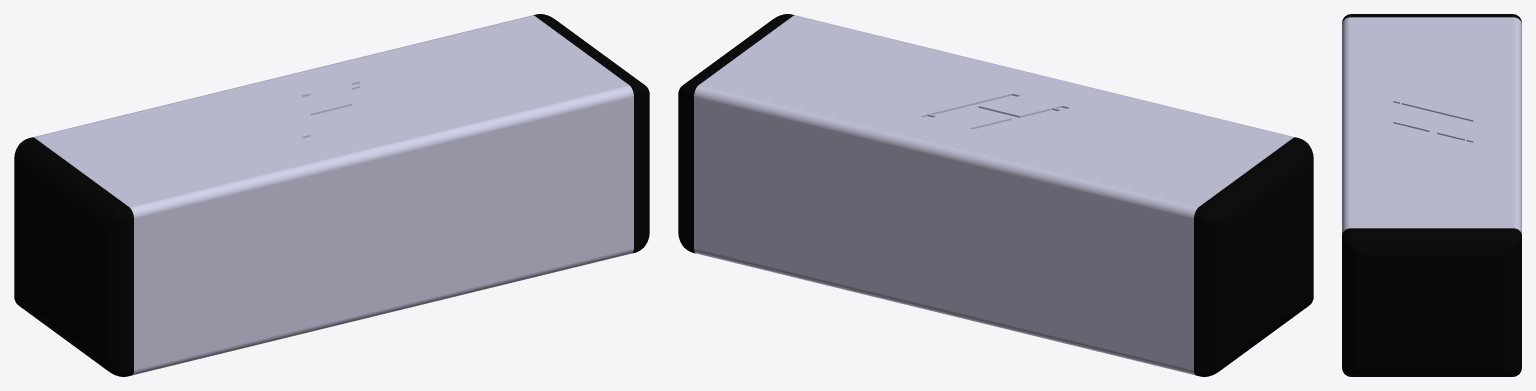
The model's file is BatteryModuleforwebsite2.gltf.
3 renders of one model, left to right at view 1: azimuth 30°, elevation 25°; view 2: azimuth 150°, elevation 25°; view 3: azimuth 270°, elevation 25°, orthographic. The views are drawn at different scales.
Visible parts, largest first — view 1: Aluminum Housing, Endcap Left, Endcap Right; view 2: Aluminum Housing, Endcap Left, Endcap Right; view 3: Aluminum Housing, Endcap Right, Endcap Left.
Boxes of the visible parts, box(x1,y1,x2,y2) form: Aluminum Housing: box(33, 15, 633, 375); Endcap Left: box(14, 137, 133, 376); Endcap Right: box(533, 14, 649, 253); Aluminum Housing: box(694, 15, 1294, 375); Endcap Left: box(1194, 137, 1313, 376); Endcap Right: box(678, 14, 794, 253); Aluminum Housing: box(1342, 17, 1521, 234); Endcap Right: box(1342, 228, 1521, 376); Endcap Left: box(1342, 14, 1521, 23).
Size of the model in its own units: 0.3322 by 0.097 by 0.1089.
